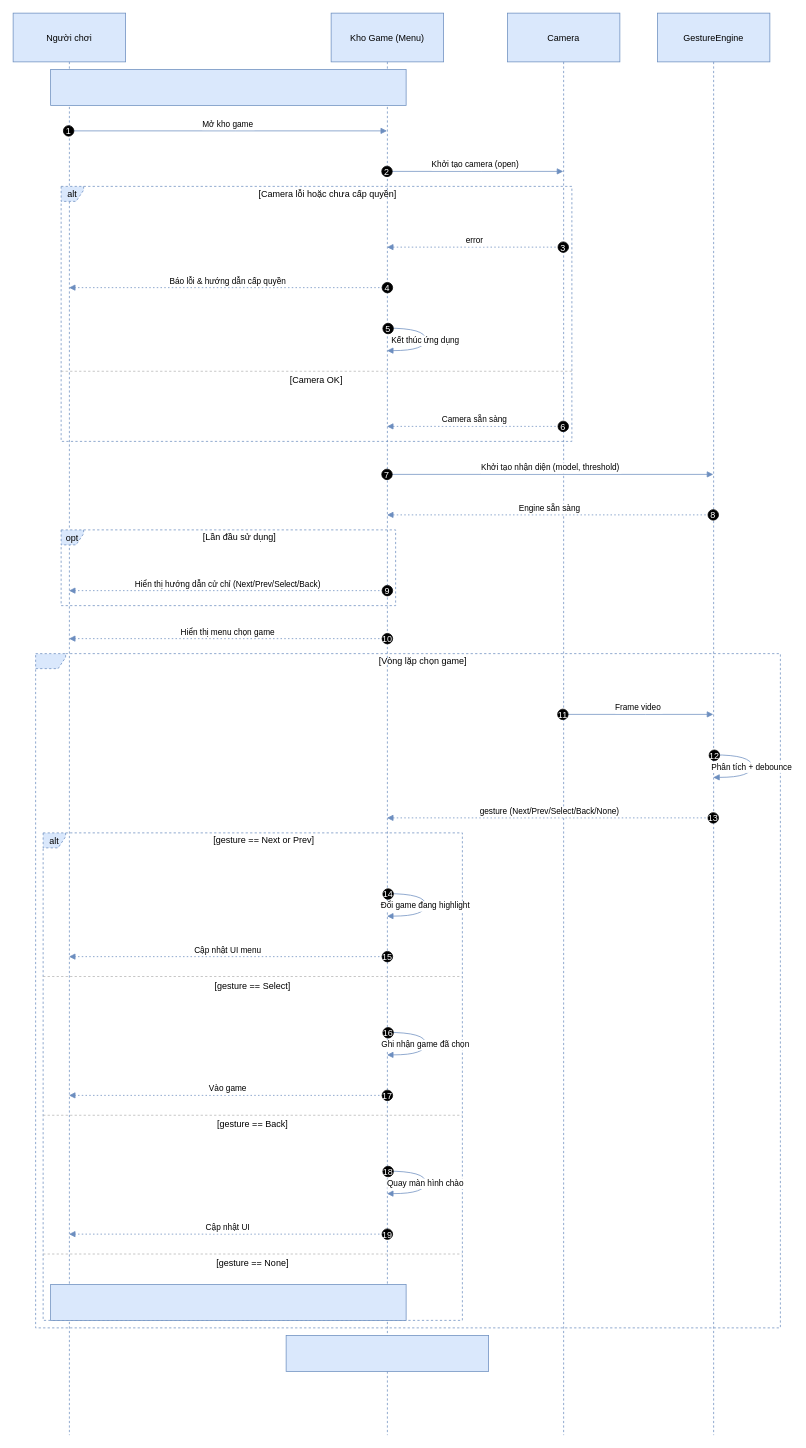
This 806x1448 diagram has some shape labels left out. Here are the shapes that lost their labels. From the top down, the box of each, then its label:
(50, 69, 406, 105): Khởi động ứng dụng
(35, 653, 780, 1328): loop
(50, 1284, 406, 1320): Chờ cử chỉ hợp lệ
(285, 1335, 489, 1371): Vòng chọn kết thúc khi nhận Select
